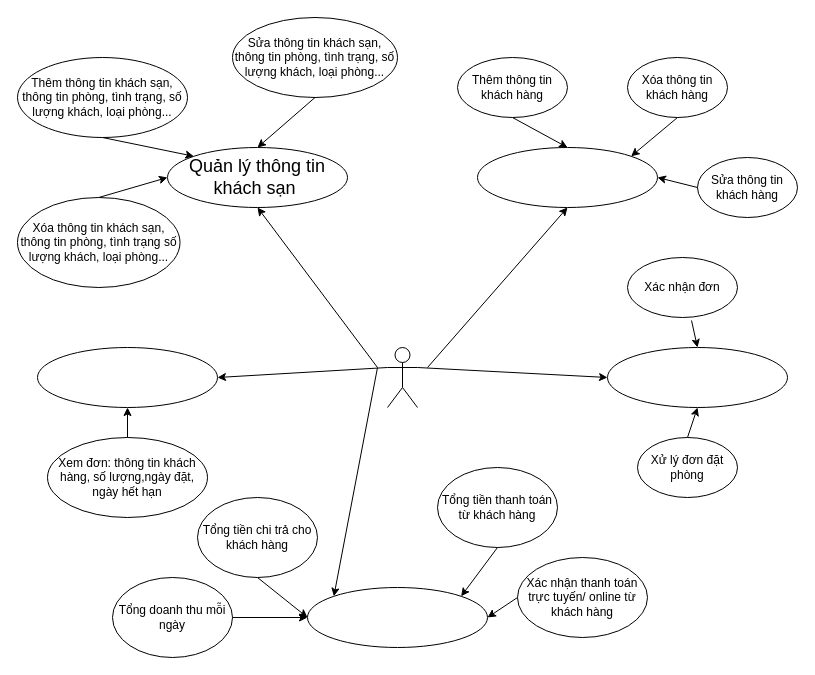
Some shapes in this 815 by 675 pixel diagram are drawn without their labels. Here are the shapes that lost their labels. From the top down, the centre of each, then its label:
(x=567, y=177): Quản lý khách hàng
(x=127, y=377): Xem đơn đặt hàng
(x=402, y=377): Hotel Staff
(x=697, y=377): Xác nhận đơn đặt phòng
(x=397, y=617): Xác nhận thanh toán
